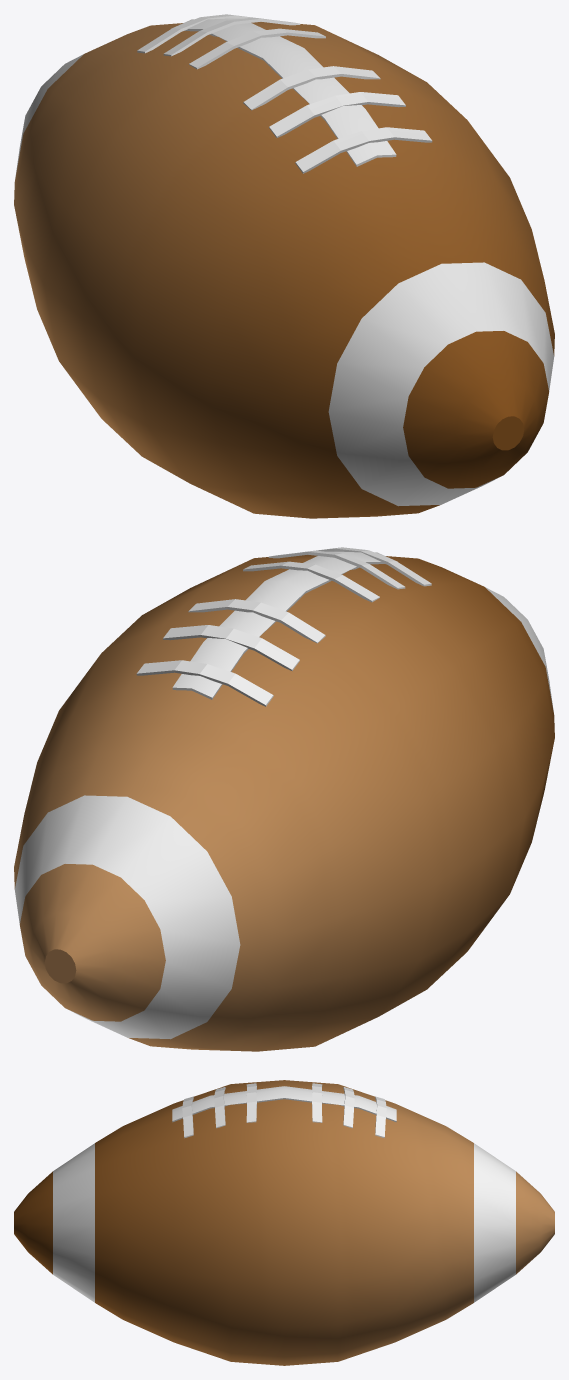
File: Rugby Ball.fbx
3 views of the same model, one above another, from view 1: azimuth 30°, elevation 25°; view 2: azimuth 150°, elevation 25°; view 3: azimuth 270°, elevation 25° (orthographic). The views are drawn at different scales.
Visible parts, largest first — view 1: Rugby Ball; view 2: Rugby Ball; view 3: Rugby Ball.
Part boxes in pixels (x1,y1,x2,y2): Rugby Ball: [14, 14, 554, 518]; Rugby Ball: [14, 547, 554, 1051]; Rugby Ball: [14, 1080, 554, 1365].
Size of the model in its own units: 0.0654 by 0.0676 by 0.1258.
